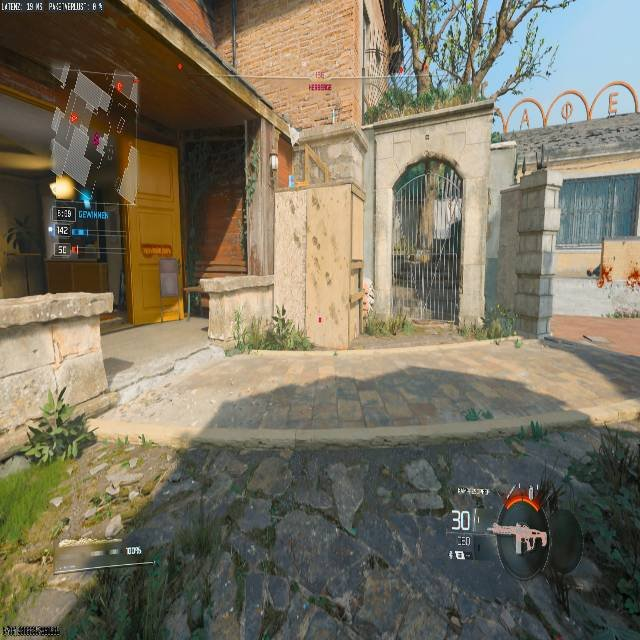head: (363, 278, 370, 288)
player: (587, 262, 612, 288), (359, 278, 374, 319)
